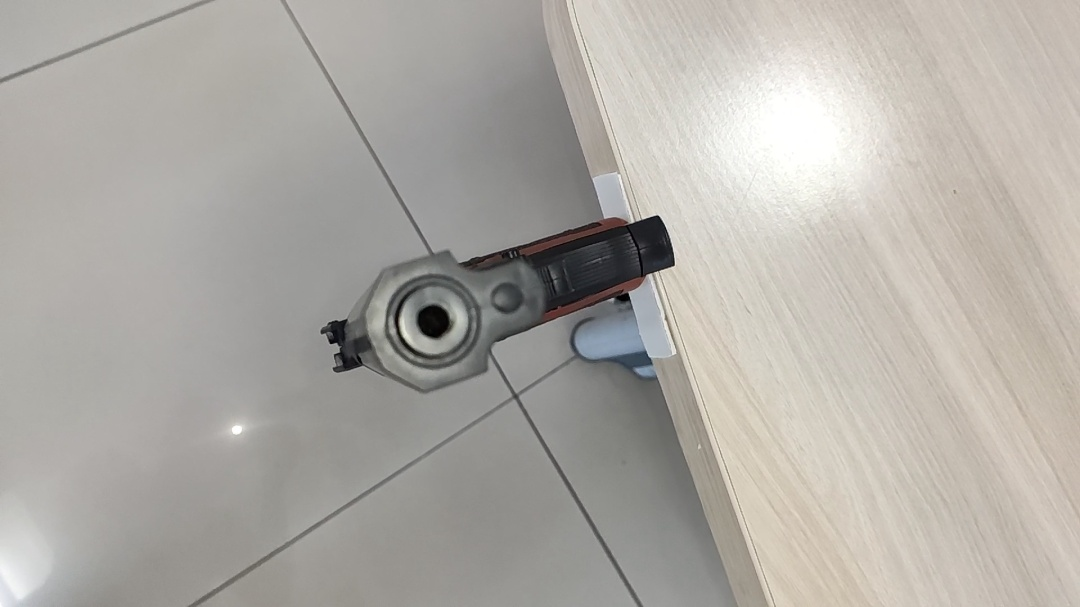gun: (323, 213, 677, 394)
